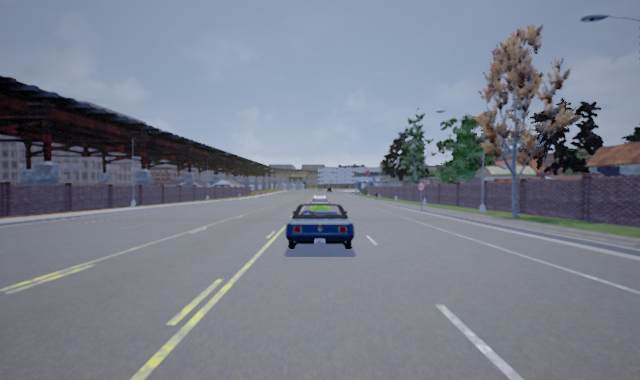traffic_sign: (417, 181, 425, 191)
vehicle: (284, 199, 355, 255), (308, 195, 331, 216)
